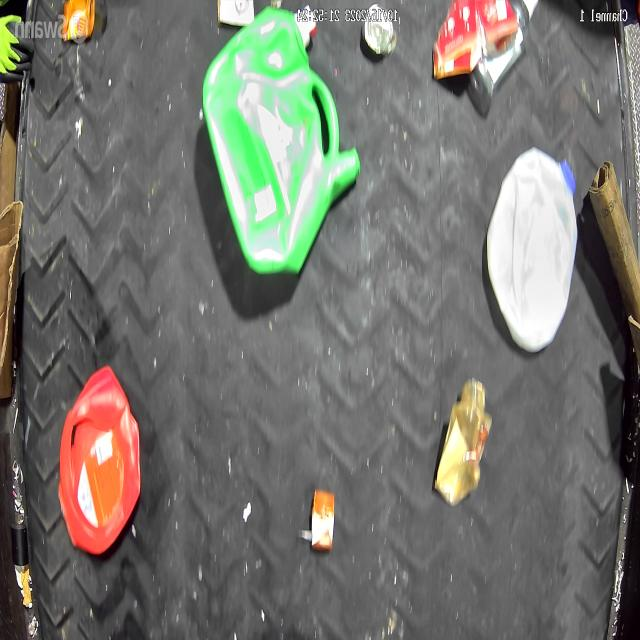can: (361, 2, 397, 62)
milk_jug: (484, 144, 581, 356)
non_white_jug: (200, 8, 362, 279), (55, 360, 144, 562)
